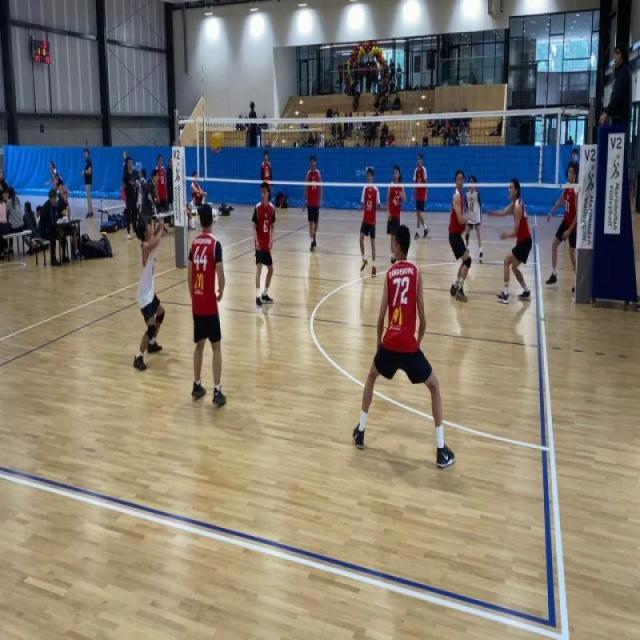volleyball: (210, 130, 226, 154), (101, 230, 108, 238)
